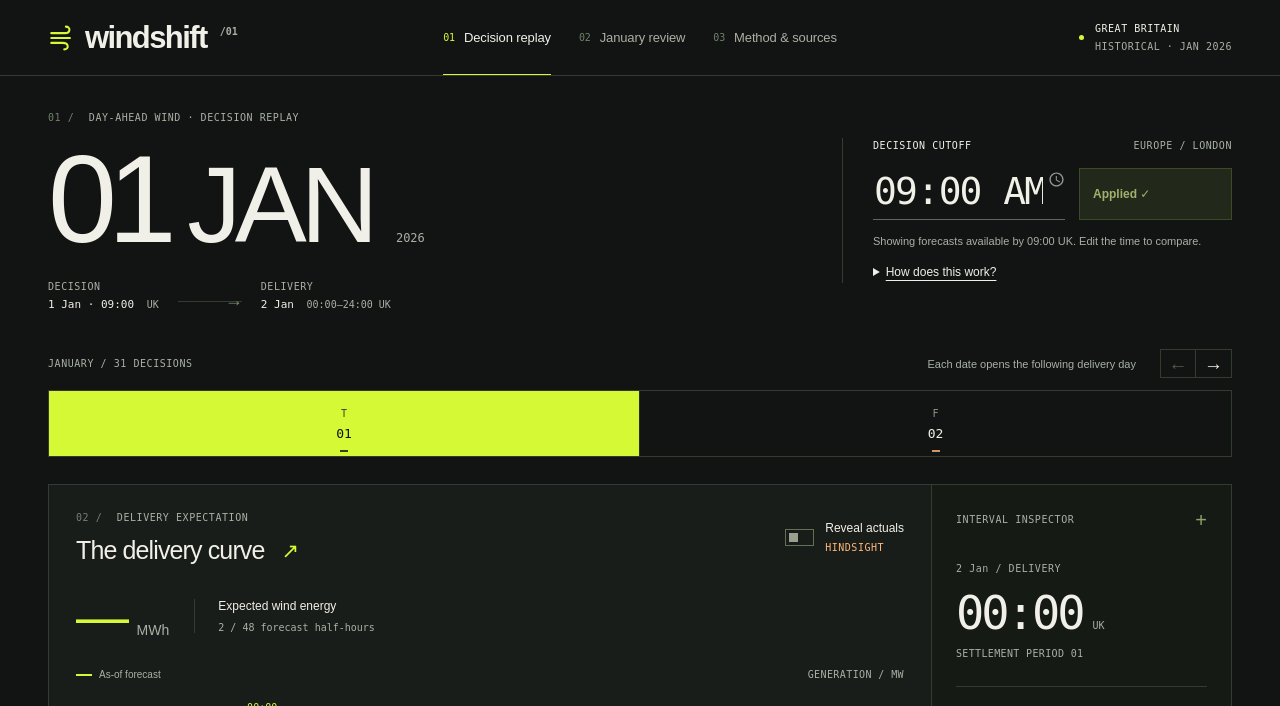
Test: decision replay › navigates from a retrospective review day back to the chosen replay
Expected: the heading "The delivery curve ↗" is shown, x1=76 y1=537 x2=298 y2=565
What coordinates should you click on to do the following:
click the button "02 January review"
I would click on:
 (632, 38)
Its box is x1=579 y1=0 x2=685 y2=75.
(page scrolled)
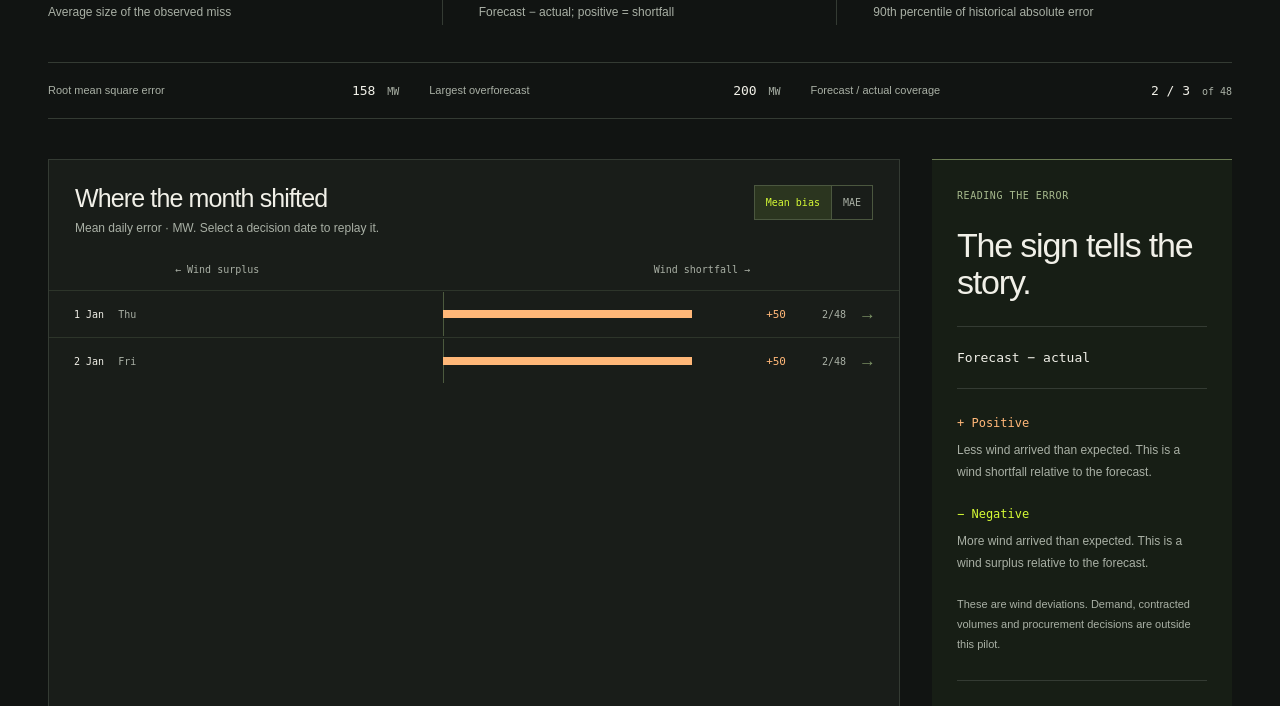
What coordinates should you click on to do the following:
click the button with aria-label "Replay 2 Jan"
I would click on:
 (474, 360)
Its box is x1=49 y1=337 x2=899 y2=384.
(page scrolled)
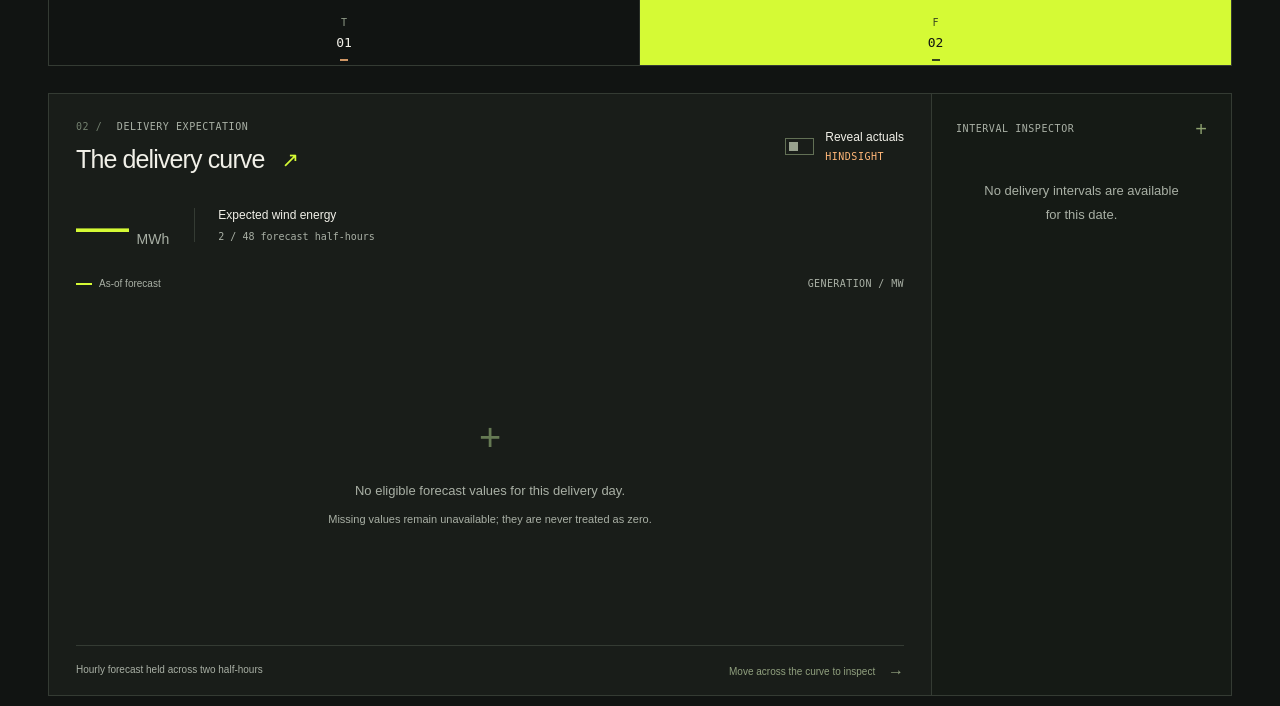
Result: the text "No delivery intervals are available for this date." is shown at x1=984 y1=183 x2=1179 y2=222
